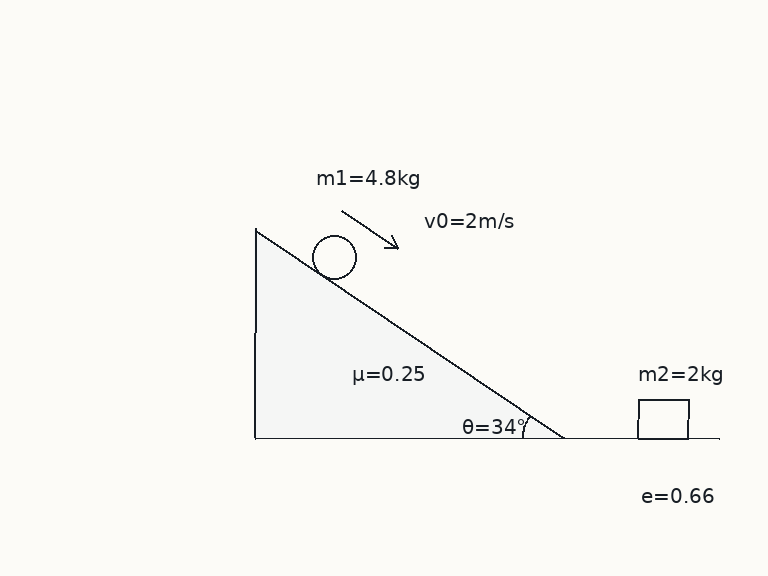ball: (310, 233, 358, 281)
block: (635, 399, 691, 440)
ramp: (253, 228, 565, 440)
